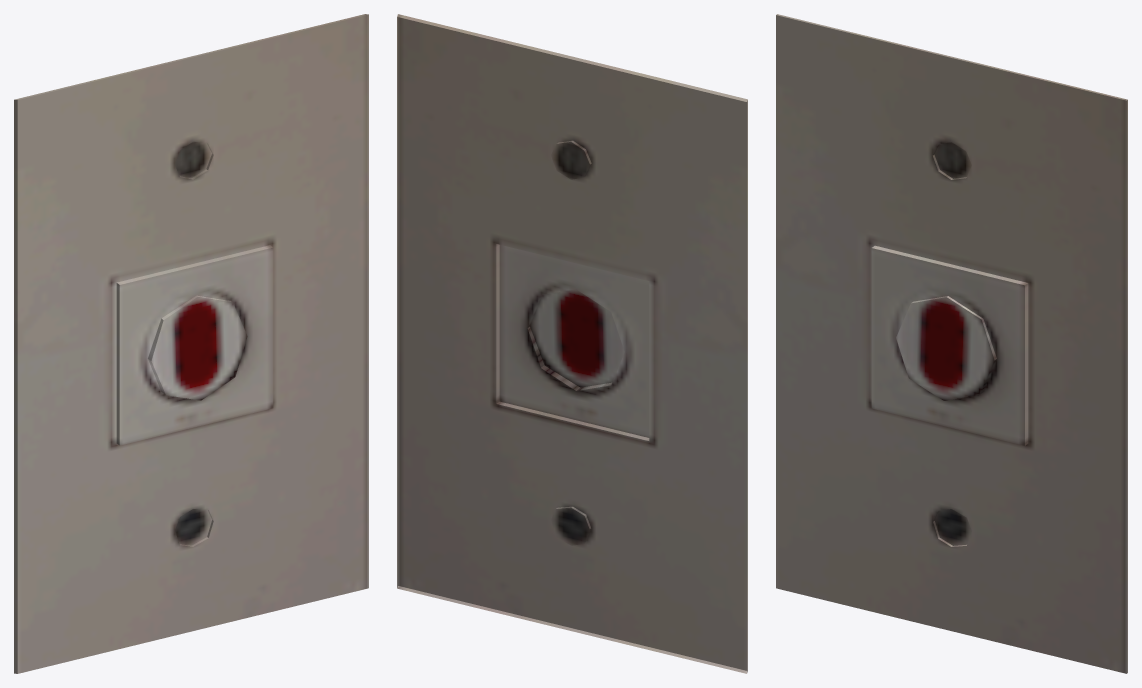
File: timerswichtLight.fbx
3 views of the same model, side by side, from view 1: azimuth 30°, elevation 25°; view 2: azimuth 150°, elevation 25°; view 3: azimuth 330°, elevation 25° (orthographic).
Visible parts, largest first — view 1: timer switch - secondFloor; view 2: timer switch - secondFloor; view 3: timer switch - secondFloor.
Part boxes in pixels (x1,y1,x2,y2): timer switch - secondFloor: [14, 14, 368, 673]; timer switch - secondFloor: [397, 14, 747, 673]; timer switch - secondFloor: [776, 14, 1127, 673].
Size of the model in its own units: 0.1183 by 0.1843 by 0.0058.
